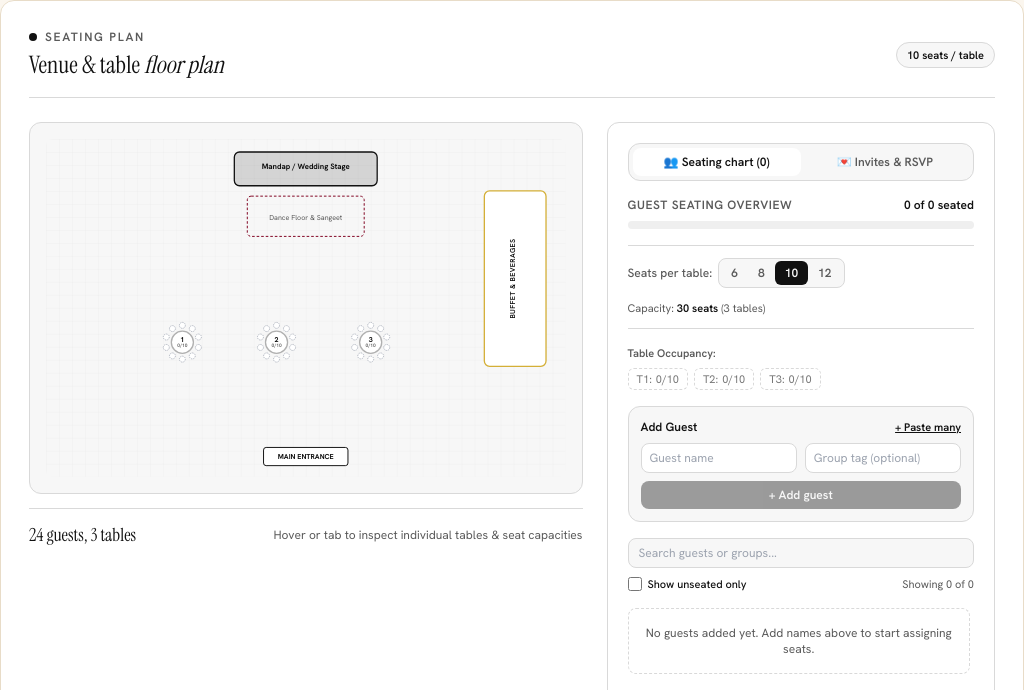
Scenario: Seating Plan Component & Accessibility (Stages 2 & 3) › supports keyboard seating flow: focus, Enter to open picker, assign, and Delete to unseat
# Add a guest first
In the field labelled "Guest name": (719, 458) [640,443,797,473], type "Vikram Mehta"
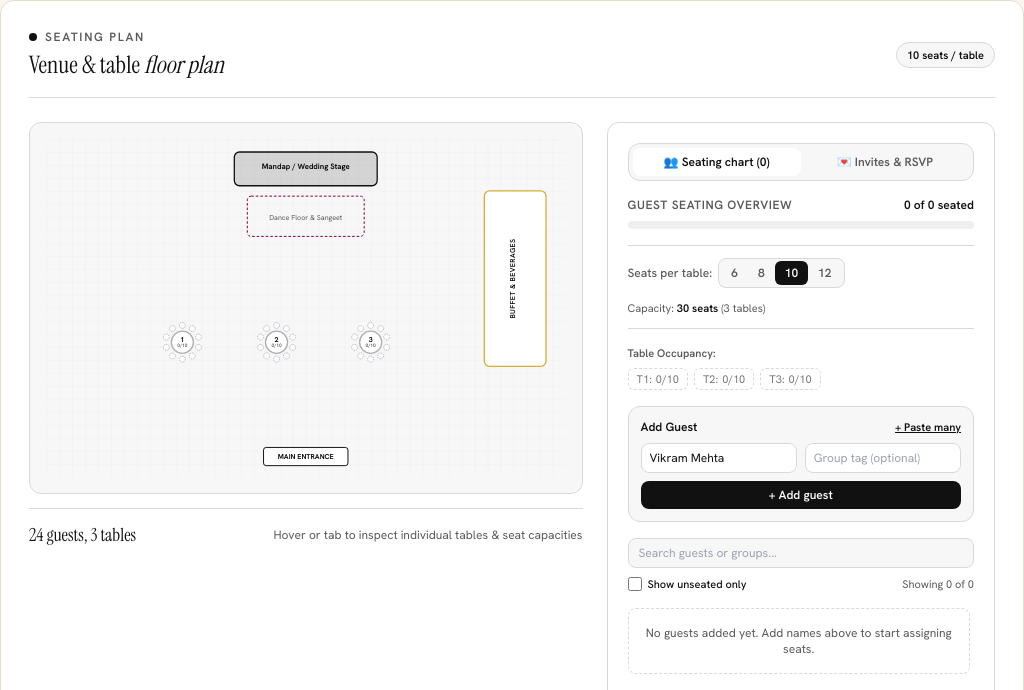
Click the button "+ Add guest": (801, 495) [640,481,961,509]
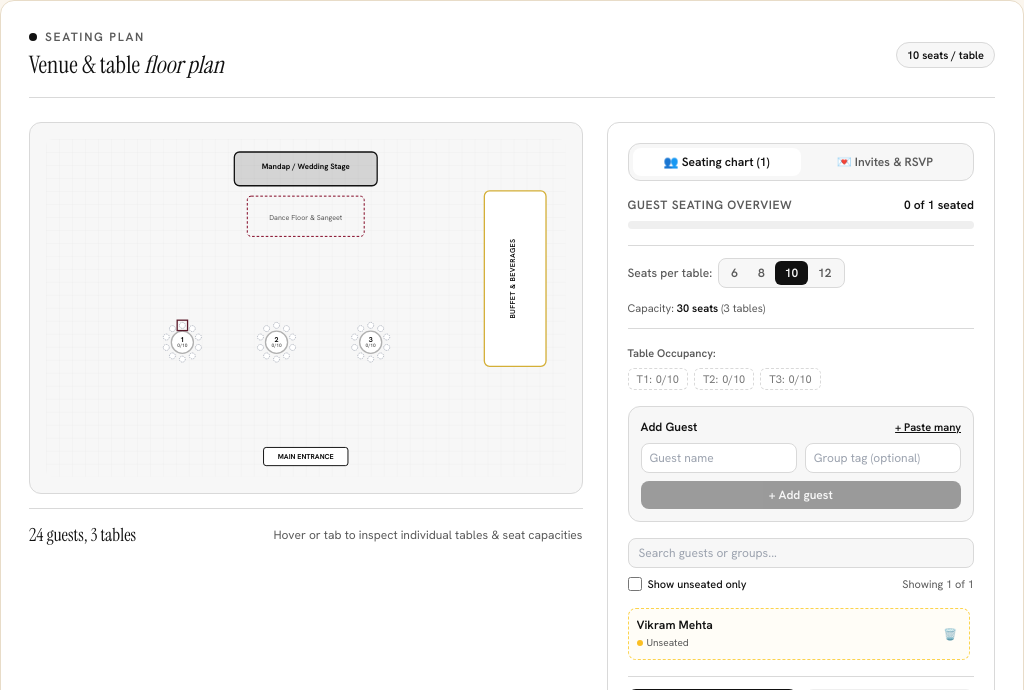
Expected: the text "Vikram Mehta" is shown, [636,617,713,633]
Press Enter in the button "Table 1, seat 1, empty", box [179,322,185,328]
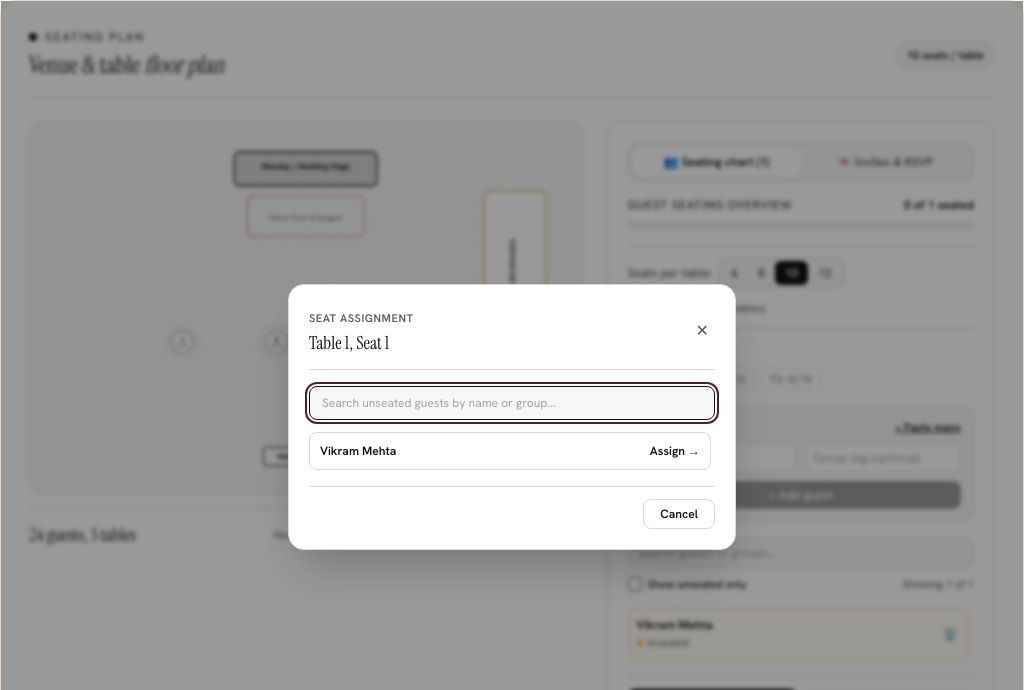
Click the button "Vikram Mehta Assign →": (358, 451) [309,432,711,470]
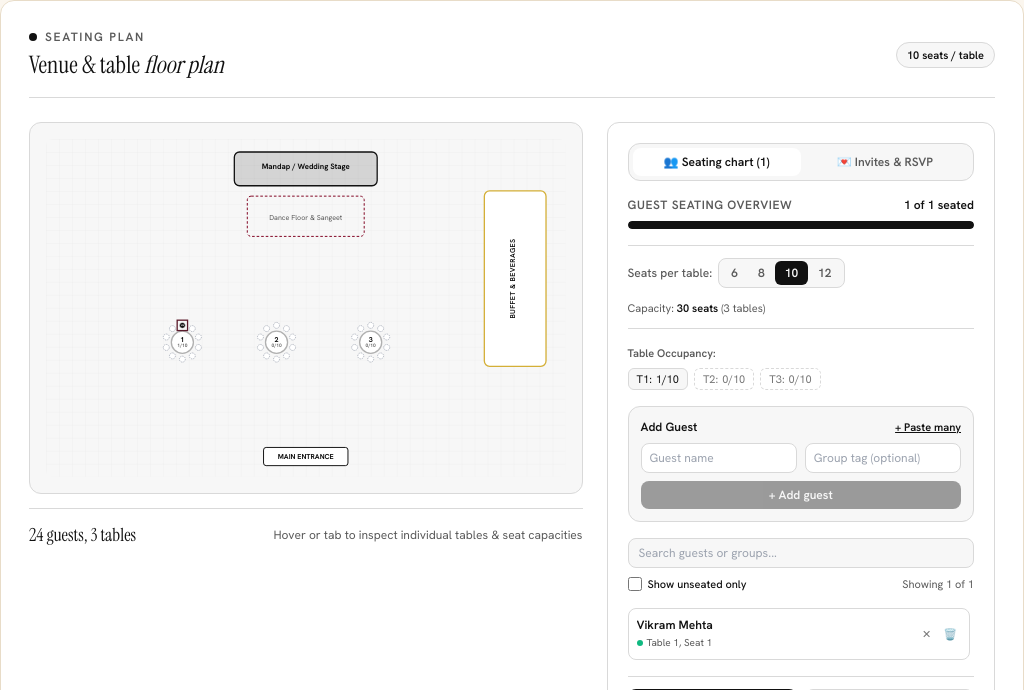
Expected: the text "1 of 1 seated" is shown, [904,197,974,213]
Press Delete in the button "Table 1, seat 1, Vikram Mehta", box [181,324,184,327]
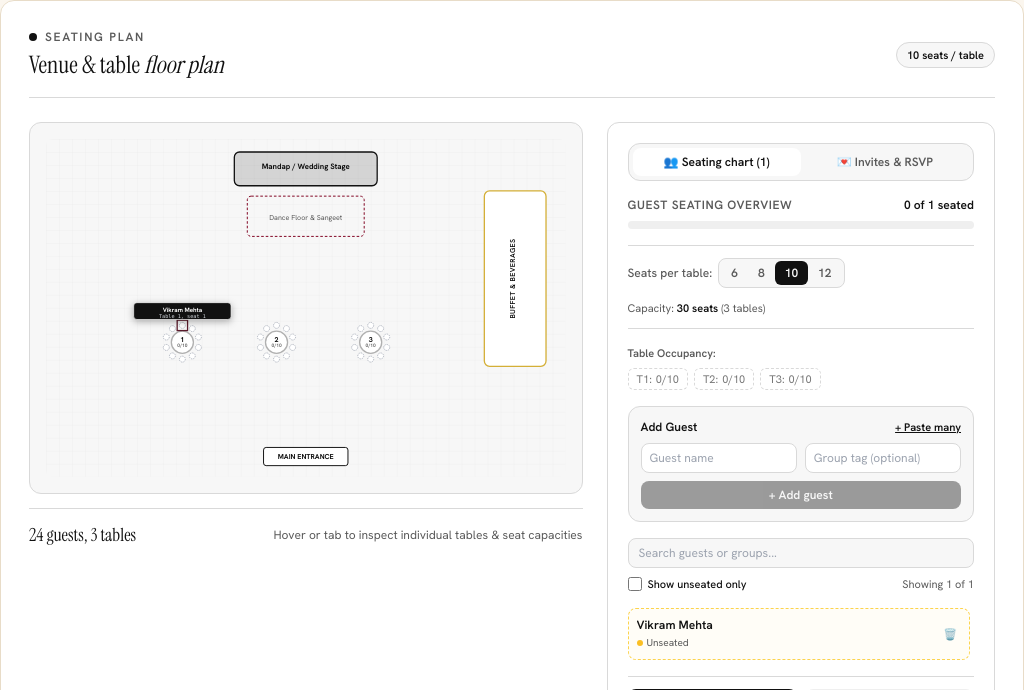
Expected: the button "Table 1, seat 1, empty" is shown, [179,322,185,328]
Expected: the text "0 of 1 seated" is shown, [904,197,974,213]
